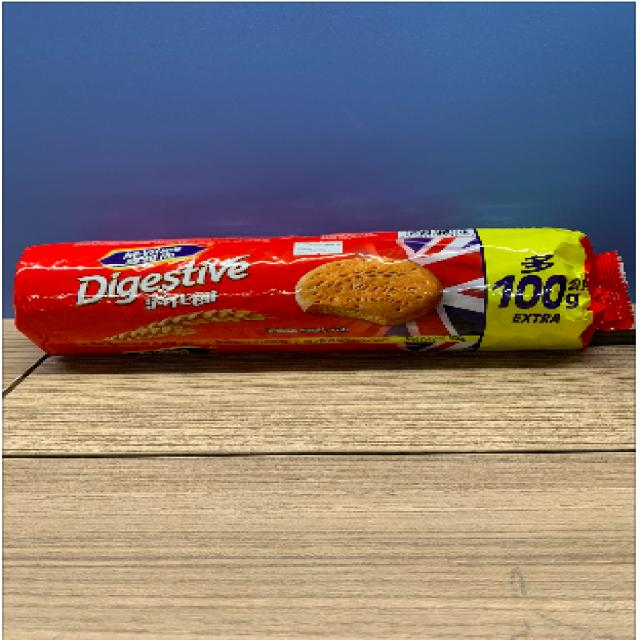object_name: (19, 242, 605, 351)
